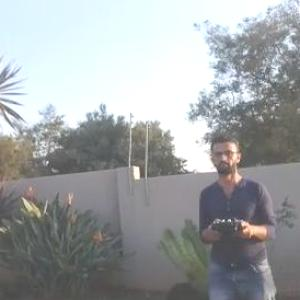follow: (192, 123, 279, 299)
